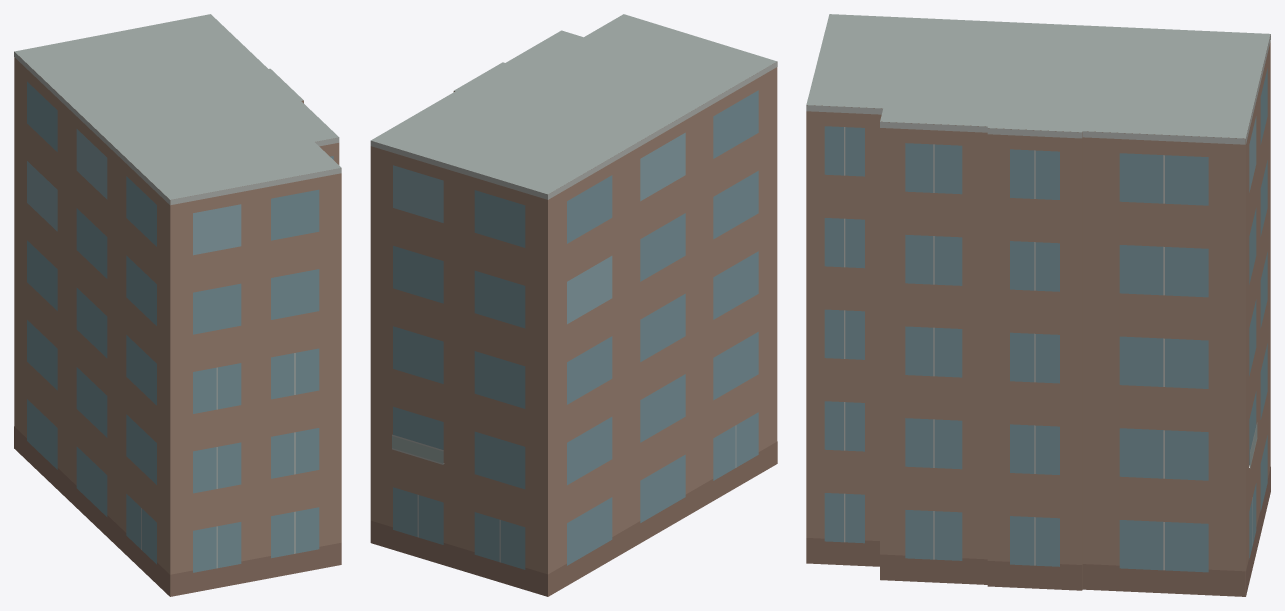
Rendered from survey-upis-32669490.glb.
3 renders of one model, left to right at view 1: azimuth 30°, elevation 25°; view 2: azimuth 150°, elevation 25°; view 3: azimuth 270°, elevation 25°, orthographic. The views are drawn at different scales.
Visible parts, largest first — view 1: survey-upis-32669490.tmp; view 2: survey-upis-32669490.tmp; view 3: survey-upis-32669490.tmp.
Boxes of the visible parts, x1,y1,x2,y2 form: survey-upis-32669490.tmp: [14, 14, 341, 596]; survey-upis-32669490.tmp: [370, 14, 777, 596]; survey-upis-32669490.tmp: [806, 14, 1270, 596].
Size of the model in its own units: 10.5 by 18 by 16.54.
